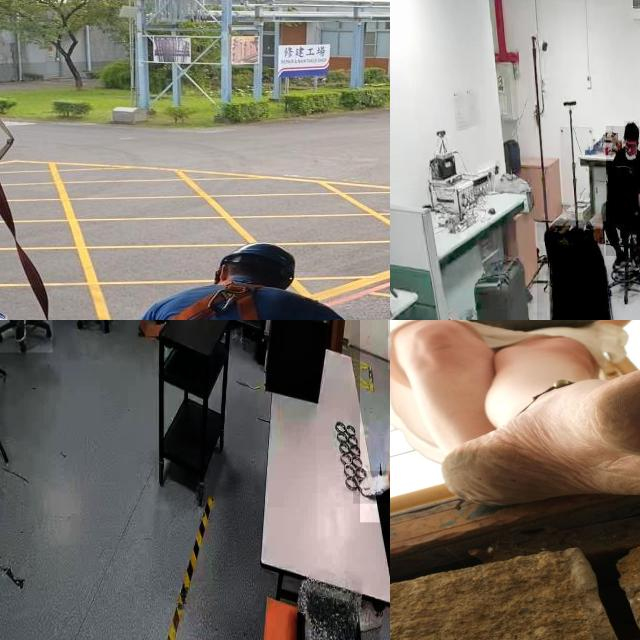Barefoots: (441, 326, 640, 506)
Harness: (126, 281, 340, 320)
face_nomask: (624, 141, 636, 162)
glasses: (624, 138, 638, 152)
hand_glove: (352, 470, 390, 504)
head_nohelmet: (548, 226, 604, 268), (624, 121, 640, 135)
person: (537, 221, 640, 320), (359, 320, 390, 523), (606, 126, 640, 256)
shoes: (611, 246, 628, 272), (12, 320, 27, 344), (629, 245, 640, 272)
